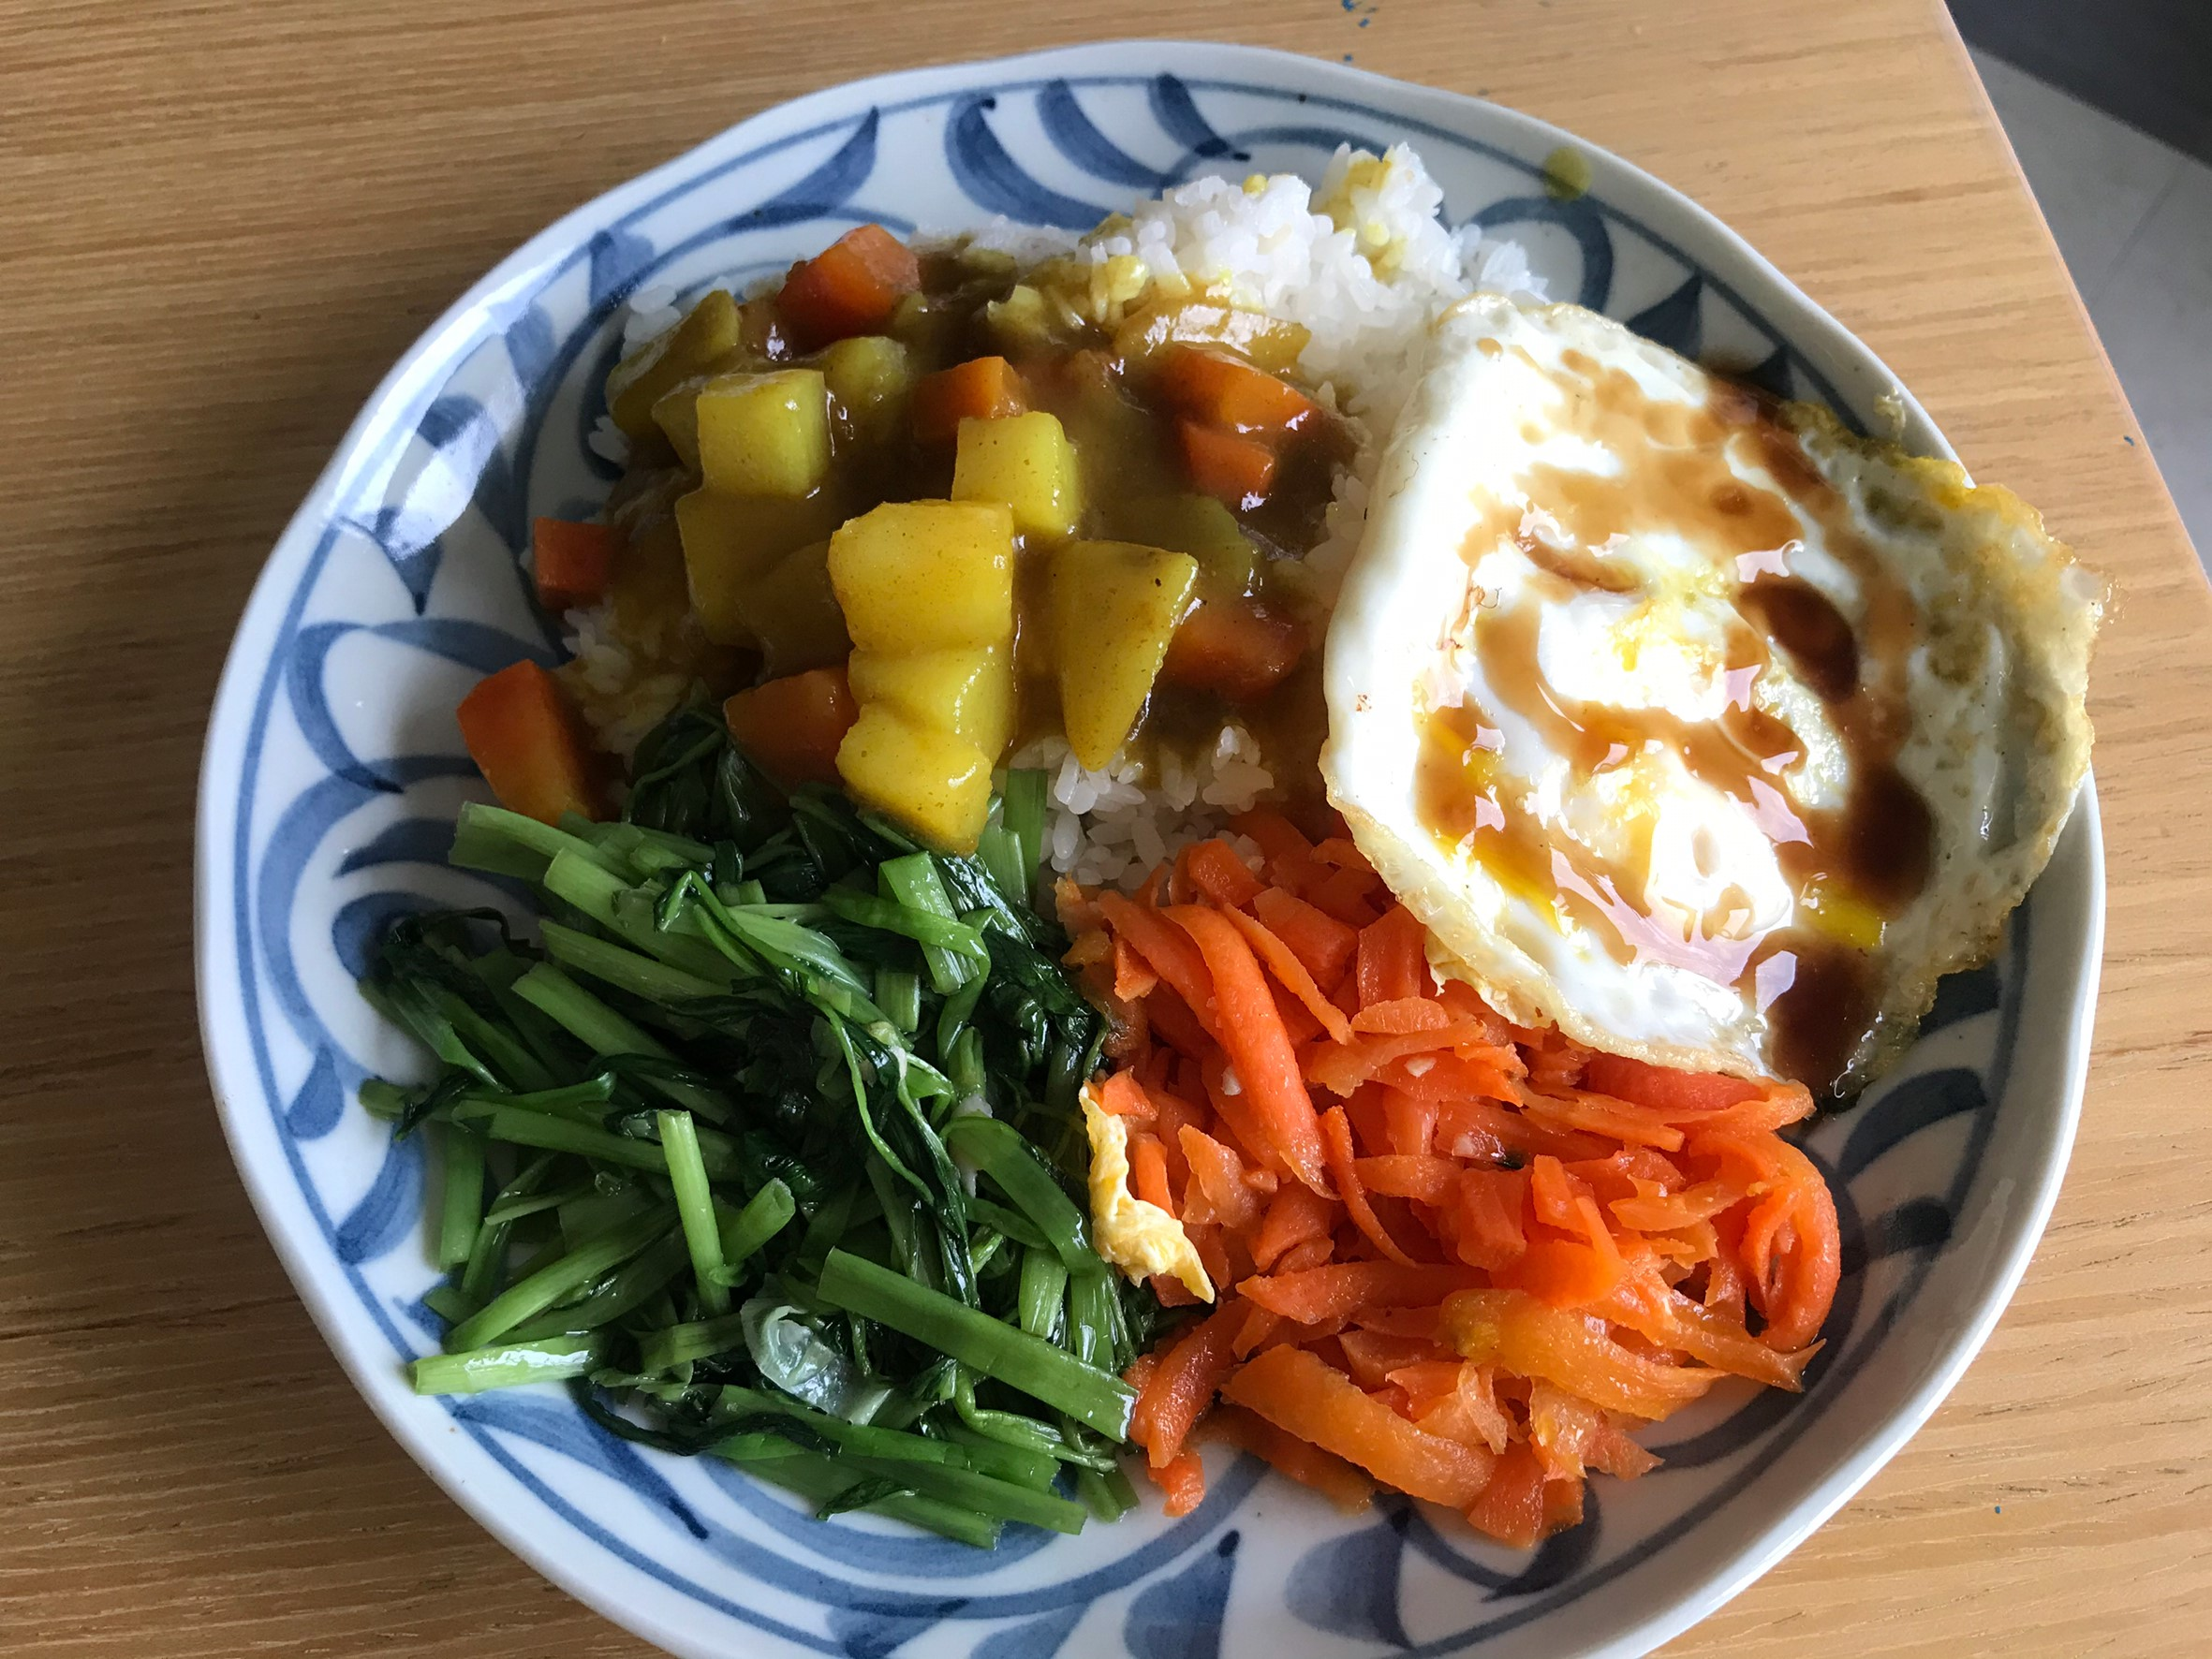carrot_eggs: (1114, 882, 1842, 1547)
curry: (614, 228, 1309, 828)
fried_eggs: (1337, 301, 2113, 1079)
rice: (1135, 132, 1490, 338)
water_spinach: (408, 831, 1077, 1502)
